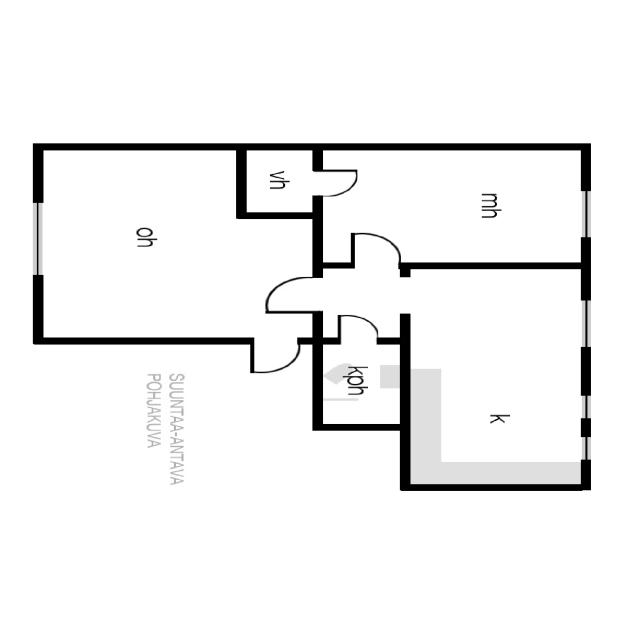door: (252, 270, 326, 315), (342, 226, 413, 272), (247, 337, 306, 378), (306, 165, 366, 201), (331, 310, 388, 346)
window: (23, 197, 50, 280), (573, 186, 599, 243), (575, 296, 598, 352), (578, 434, 594, 464), (580, 393, 592, 421)
zone: (34, 146, 298, 340), (406, 267, 590, 495), (323, 148, 590, 267), (316, 339, 404, 426), (243, 146, 320, 216)
